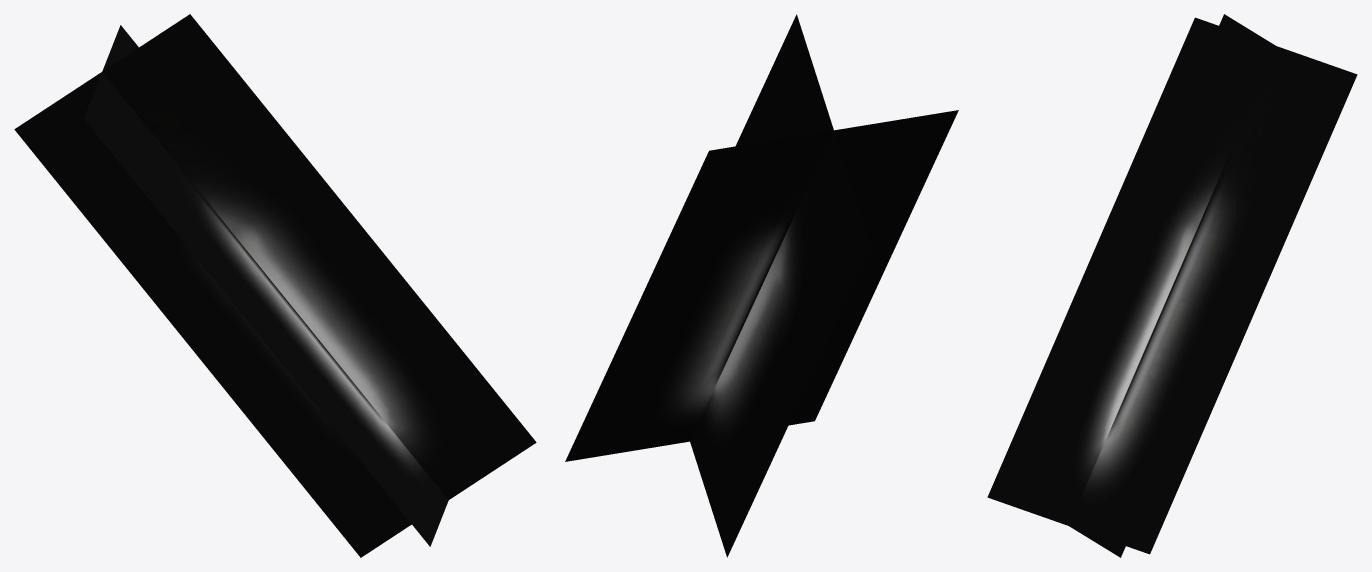
The model's file is E_role_1001_wp01.fbx.
3 renders of one model, left to right at view 1: azimuth 30°, elevation 25°; view 2: azimuth 150°, elevation 25°; view 3: azimuth 270°, elevation 25°, orthographic. The views are drawn at different scales.
Visible parts, largest first — view 1: E_role_1001_wp01; view 2: E_role_1001_wp01; view 3: E_role_1001_wp01.
Part boxes in pixels (x1,y1,x2,y2): E_role_1001_wp01: (14,14,536,557); E_role_1001_wp01: (565,14,958,557); E_role_1001_wp01: (987,14,1357,557).
Size of the model in its own units: 1.46 by 2.07 by 1.41.
1 material, 1 textured.
